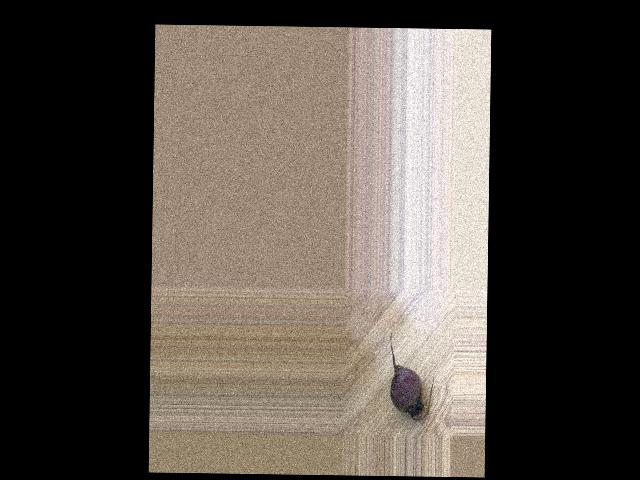beet: (388, 331, 434, 420)
